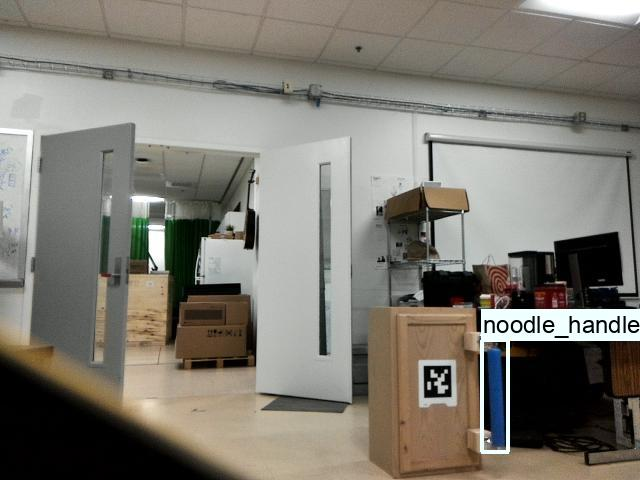noodle_handle: (480, 341, 508, 452)
